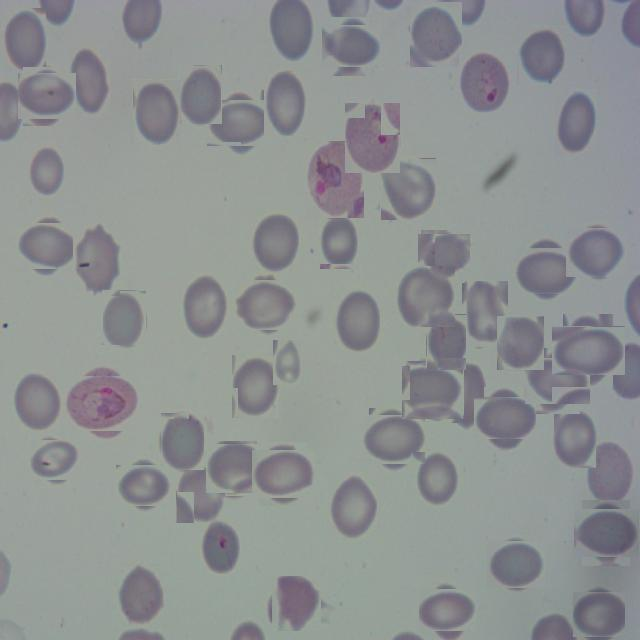leukocyte: (558, 319, 620, 382), (397, 266, 455, 327), (409, 1, 462, 67), (380, 158, 436, 220), (404, 364, 462, 422), (328, 473, 378, 540), (73, 226, 120, 296), (578, 504, 634, 562), (212, 95, 268, 152), (365, 412, 422, 468), (132, 79, 180, 145), (520, 242, 576, 298), (569, 224, 625, 280), (530, 353, 586, 409), (255, 446, 311, 502), (238, 277, 294, 333), (181, 273, 228, 339), (250, 211, 300, 273), (13, 371, 63, 433), (231, 354, 279, 418), (462, 281, 508, 347), (334, 287, 380, 353), (586, 441, 633, 505), (115, 564, 164, 625), (20, 219, 74, 274), (176, 464, 225, 523), (554, 88, 597, 155), (444, 362, 487, 428), (518, 26, 566, 85), (264, 72, 308, 136), (489, 538, 542, 591), (70, 48, 110, 117), (479, 392, 532, 444), (270, 578, 323, 630), (206, 442, 258, 494), (4, 8, 46, 72), (414, 450, 460, 508), (21, 70, 72, 122), (178, 65, 222, 124), (497, 316, 544, 371), (160, 412, 204, 470), (326, 21, 376, 72), (422, 586, 472, 636), (120, 461, 170, 510), (554, 410, 596, 468), (102, 290, 146, 345), (574, 590, 624, 638), (420, 232, 468, 280), (30, 436, 78, 484), (426, 314, 466, 370), (200, 518, 240, 574), (319, 213, 358, 269), (25, 144, 65, 198), (273, 340, 301, 385)
red blood cell: (459, 50, 510, 115)
schizont: (305, 142, 364, 220), (70, 371, 136, 436), (344, 102, 400, 173)
